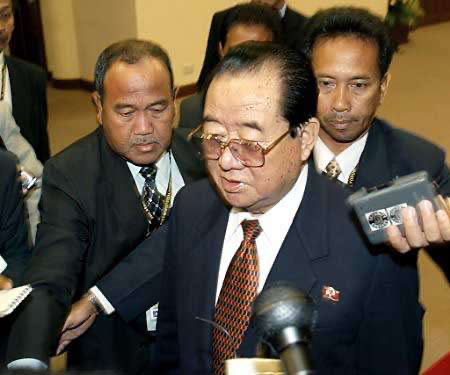Face: (194, 85, 281, 208), (105, 68, 175, 167), (309, 55, 385, 141)
